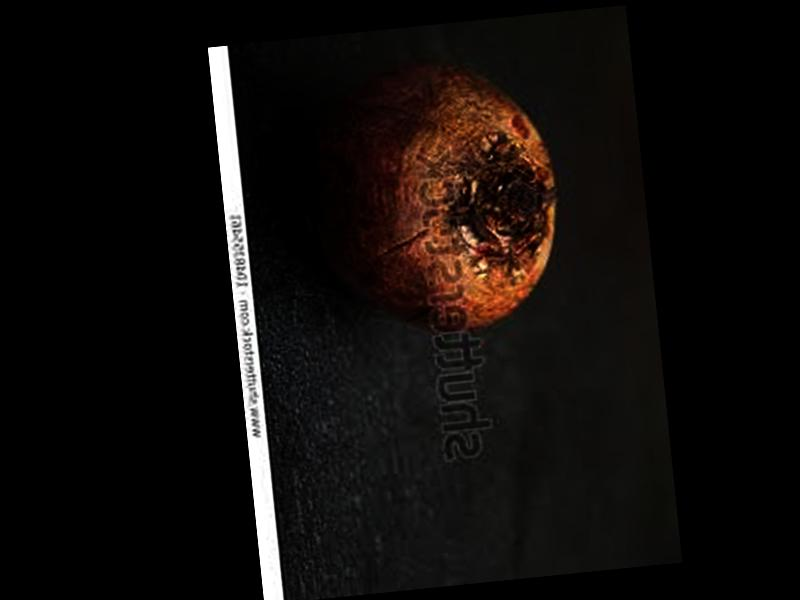Beet: (292, 45, 567, 342)
